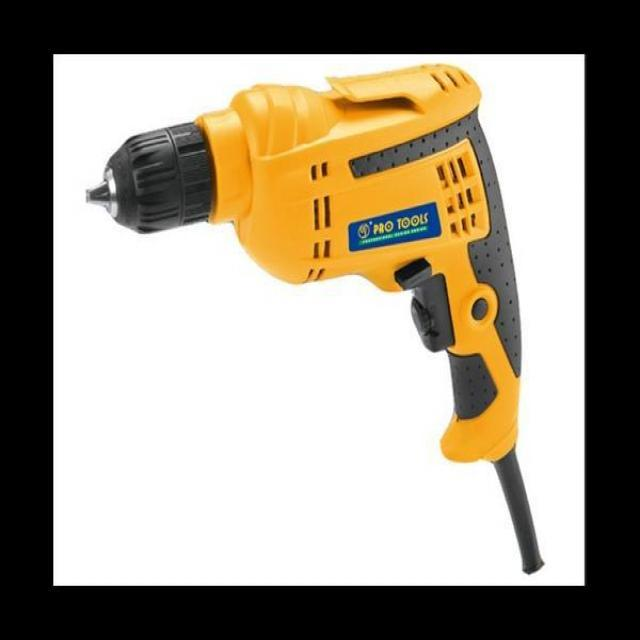drill: (86, 62, 547, 578)
